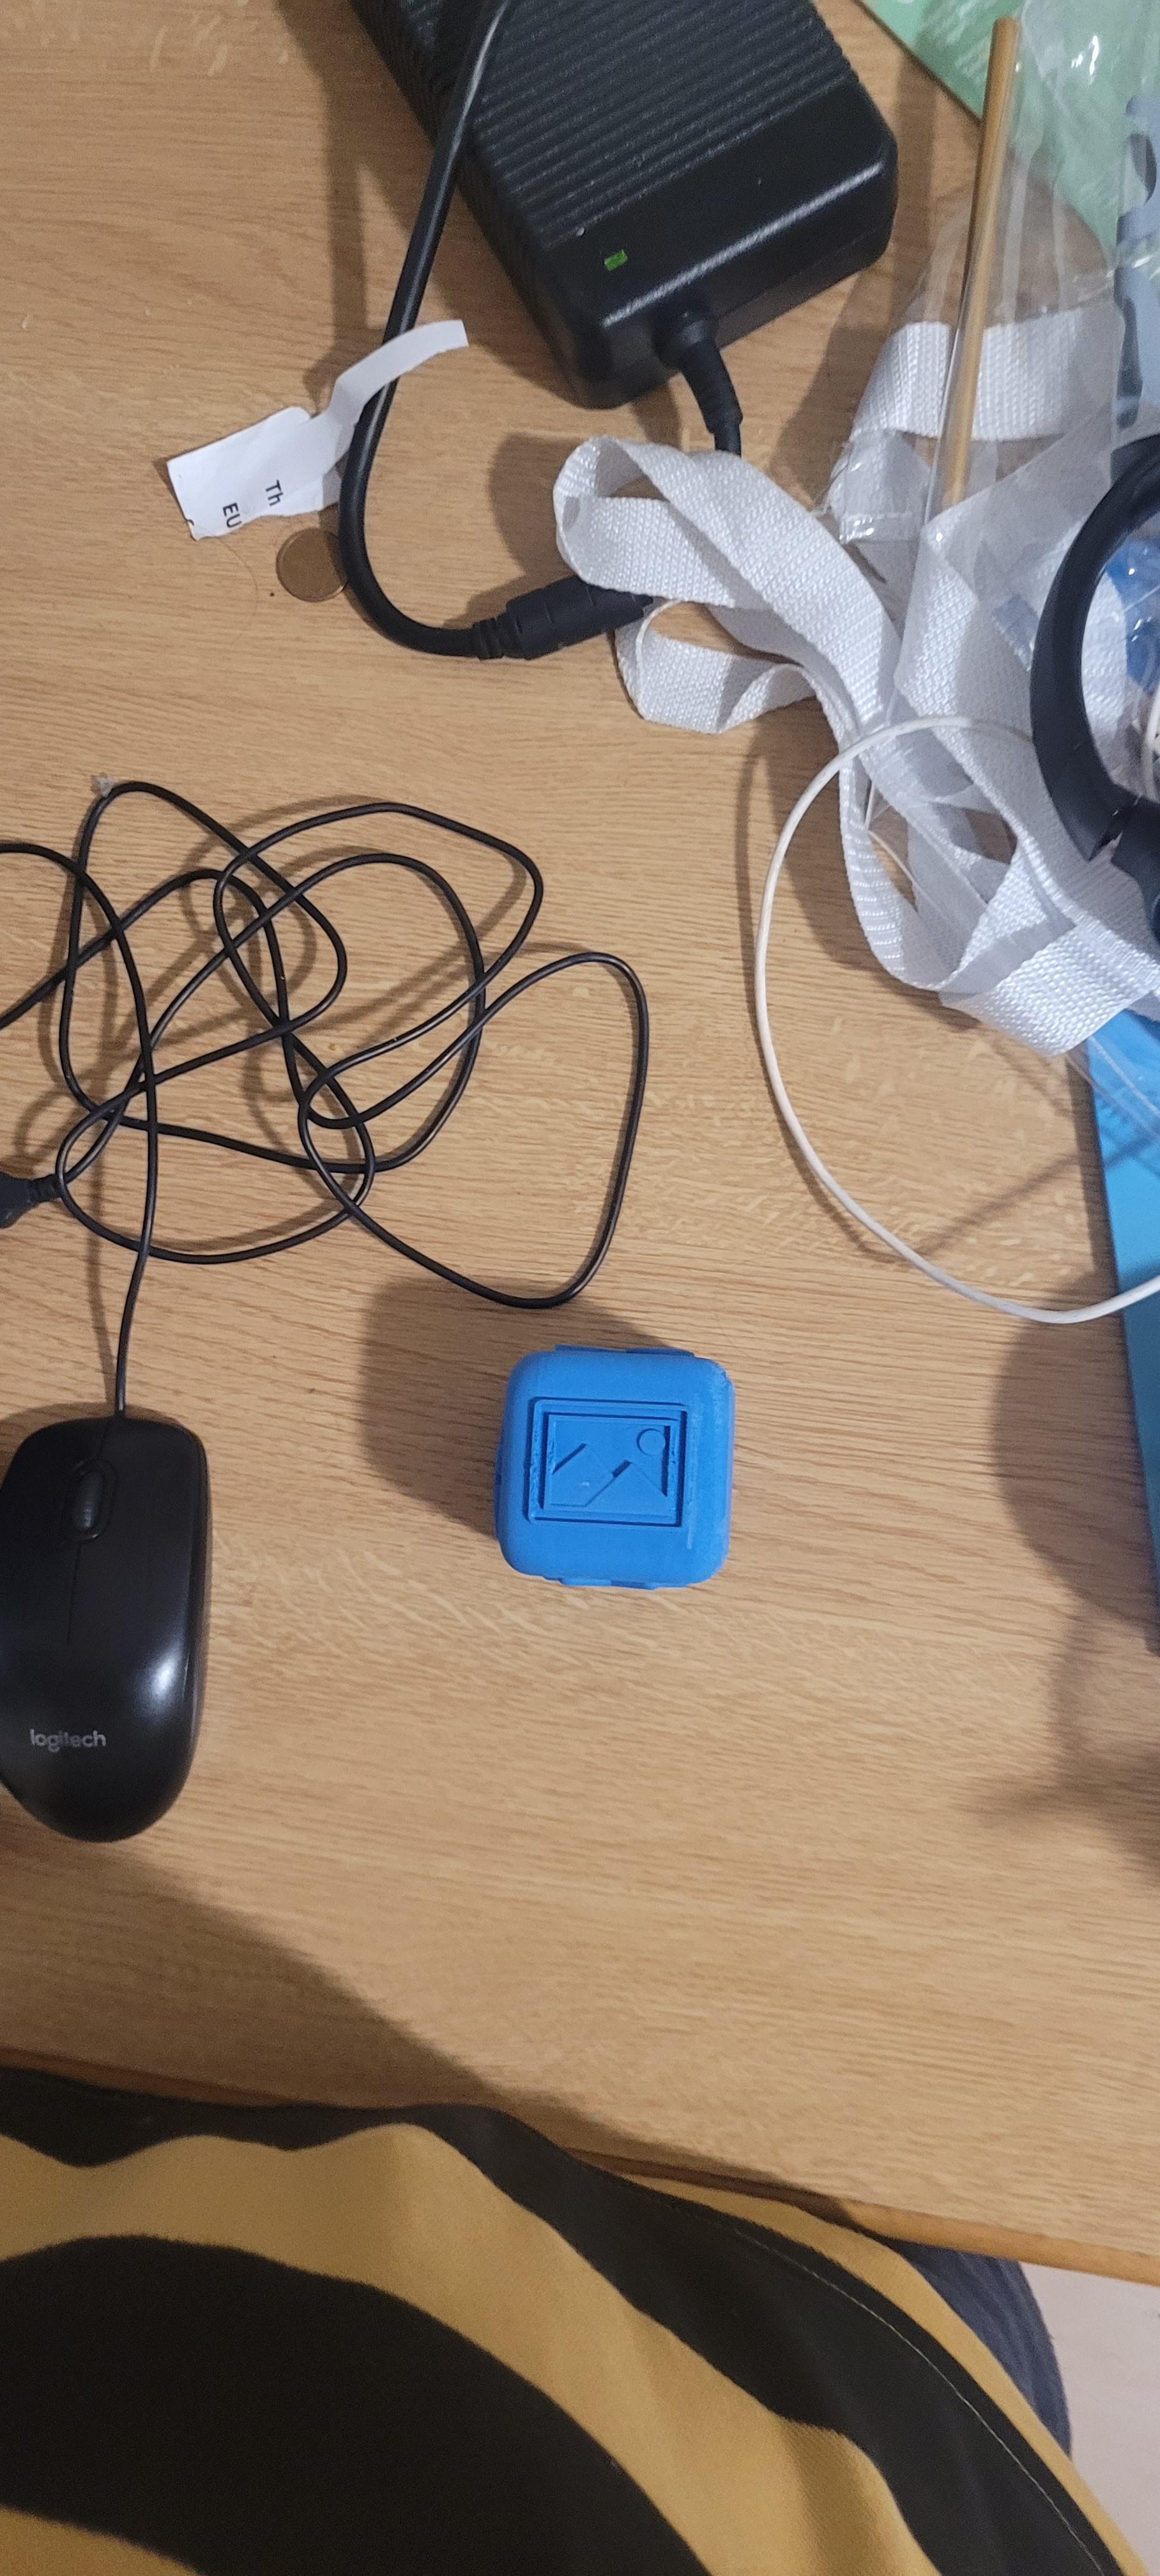Story: (503, 1365, 744, 1584)
